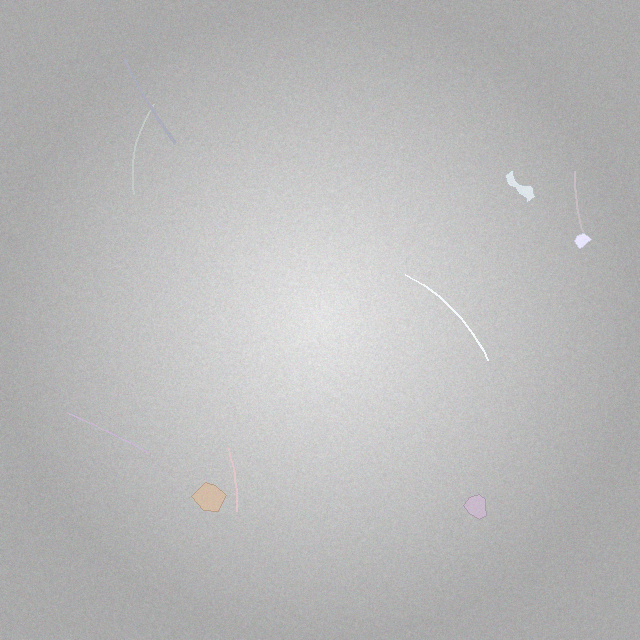fiber: (403, 272, 490, 362), (122, 56, 179, 146), (65, 410, 150, 454), (130, 103, 156, 197), (225, 446, 240, 515), (572, 169, 585, 234)
film: (505, 170, 535, 203)
fragment: (192, 482, 226, 512), (464, 495, 486, 520), (575, 233, 592, 248)
